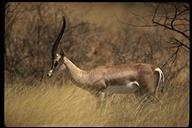antelope: (46, 15, 165, 110)
grass: (8, 86, 73, 126)
